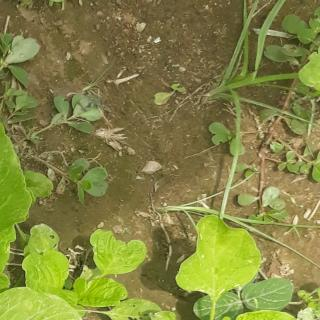virus_keriting: (101, 230, 148, 262)
